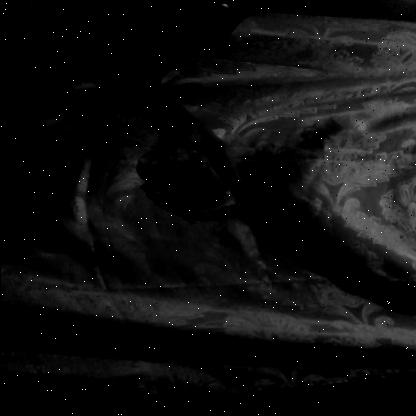Plastic Bottle: (91, 128, 279, 247)
